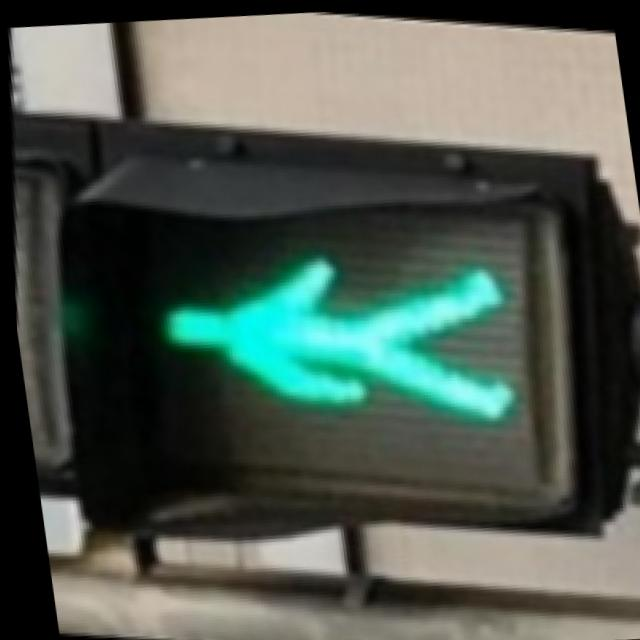green_light: (79, 141, 576, 509)
